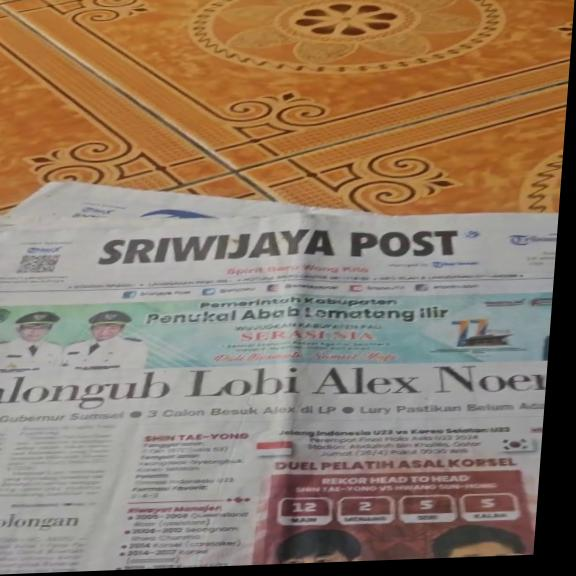Kertas: (0, 215, 549, 570)
